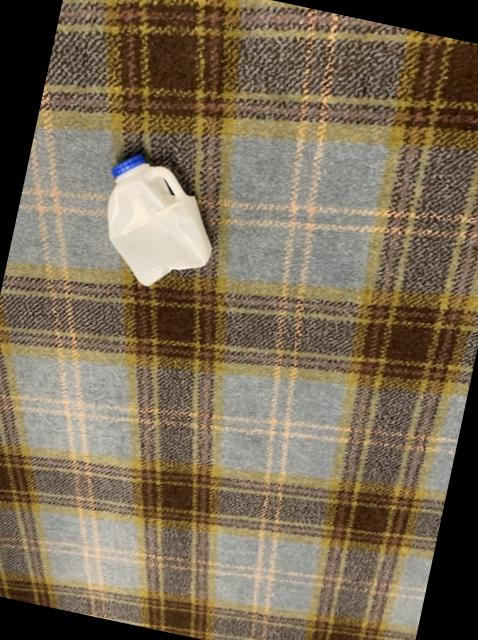plastic: (106, 155, 210, 286)
